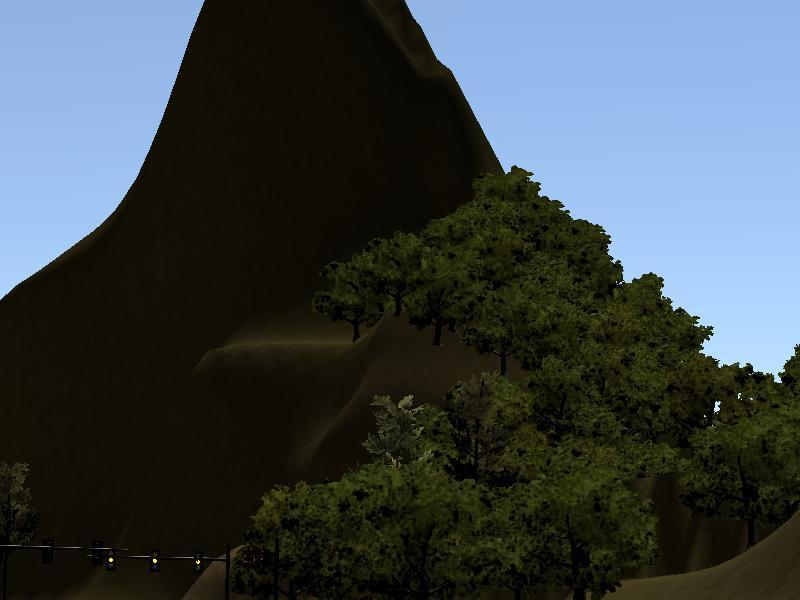Yellow: (149, 550, 161, 572), (193, 551, 204, 574), (107, 549, 118, 571)
